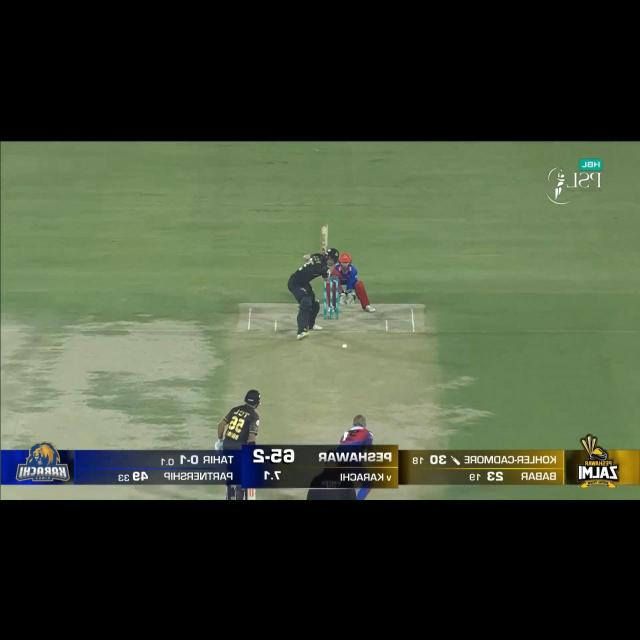bat: (320, 224, 329, 254)
toe: (246, 487, 256, 500), (320, 224, 330, 232)
